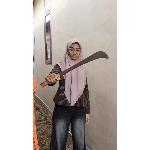Golok: (38, 49, 110, 90)
